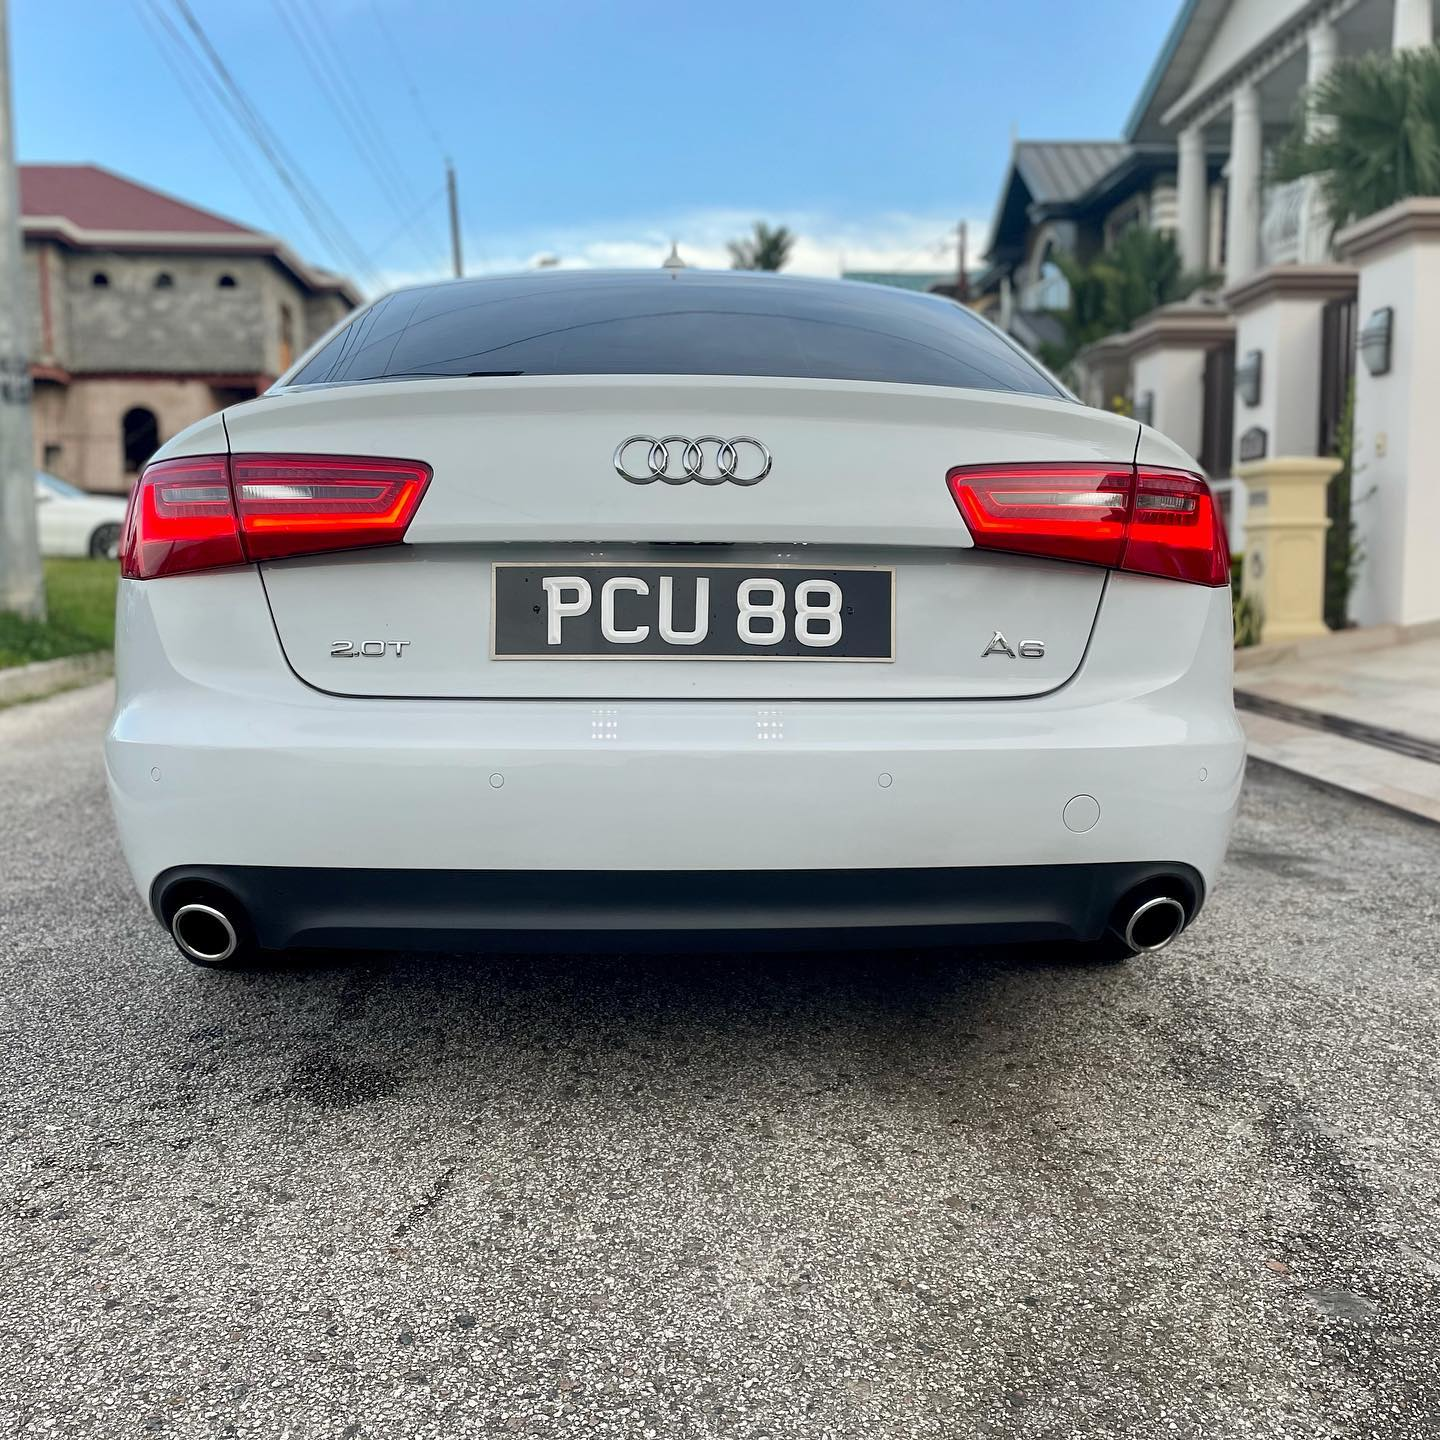License-Plate: (492, 564, 891, 659)
